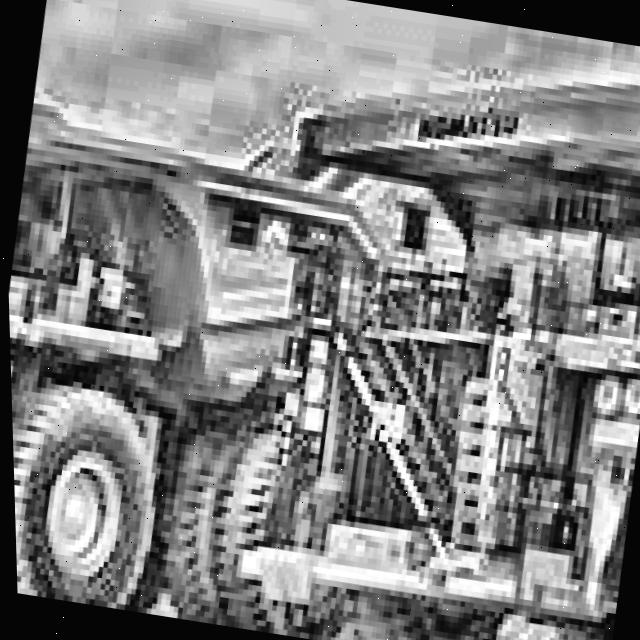dump_truck: (211, 0, 640, 640), (2, 81, 341, 632)
